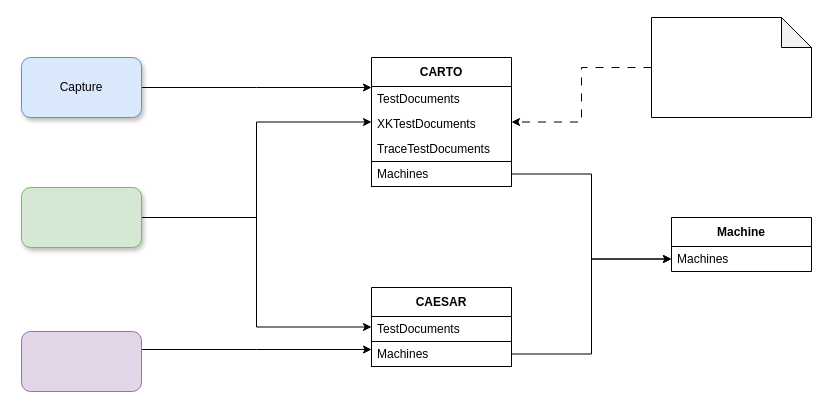
Image size: 829x409. Some labels were removed from this diagram. The centre of each missing label's shape, as x and y in pixels:
"Ballbar" belongs at (81,361).
"Explore" belongs at (82,218).
"TraceTestDocuments should be moved to CAESAR as its Ballbar related database" belongs at (731,67).
